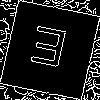E: (25, 25, 70, 78)
